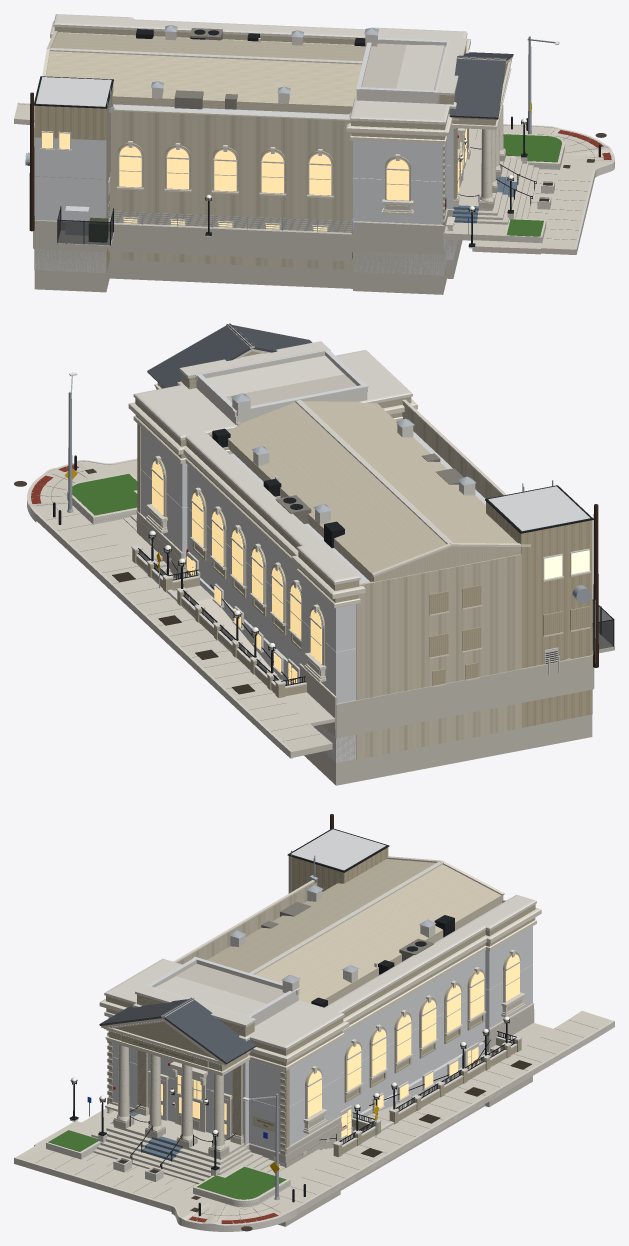
File: building-400.glb
3 renders of one model, top to bottom at view 1: azimuth 30°, elevation 25°; view 2: azimuth 150°, elevation 25°; view 3: azimuth 270°, elevation 25°, orthographic. The views are drawn at different scales.
Parts seen in each view (by area): view 1: node_27, node_102, node_70, node_36, Layer3_UpperLevel, node_18, node_45, node_74, node_0, Layer2_RoadLevel, node_14, node_47 (+27 smaller); view 2: node_102, node_27, node_45, node_31, node_0, node_18, node_74, Layer3_UpperLevel, node_70, Layer2_RoadLevel, node_72, node_32 (+23 smaller); view 3: node_102, node_45, Layer2_RoadLevel, Layer3_UpperLevel, node_18, node_74, node_2, node_47, node_1, node_7, node_72, node_14 (+26 smaller).
Boxes of the visible parts, left/top/right/bottom form: node_27: left=57, top=32, right=352, bottom=269; node_102: left=46, top=32, right=366, bottom=114; node_70: left=34, top=239, right=462, bottom=294; node_36: left=108, top=222, right=351, bottom=261; Layer3_UpperLevel: left=34, top=104, right=458, bottom=181; node_18: left=47, top=31, right=554, bottom=248; node_45: left=14, top=104, right=595, bottom=254; node_74: left=53, top=14, right=469, bottom=124; node_0: left=33, top=43, right=505, bottom=254; Layer2_RoadLevel: left=34, top=147, right=457, bottom=224; node_14: left=42, top=128, right=466, bottom=231; node_47: left=458, top=149, right=539, bottom=224; node_102: left=227, top=401, right=520, bottom=581; node_27: left=356, top=402, right=521, bottom=759; node_45: left=36, top=460, right=334, bottom=757; node_31: left=429, top=501, right=592, bottom=727; node_0: left=137, top=366, right=614, bottom=738; node_18: left=131, top=341, right=590, bottom=688; node_74: left=133, top=350, right=412, bottom=584; Layer3_UpperLevel: left=141, top=427, right=485, bottom=651; node_70: left=304, top=714, right=592, bottom=785; Layer2_RoadLevel: left=141, top=469, right=356, bottom=703; node_72: left=128, top=399, right=417, bottom=608; node_32: left=195, top=349, right=589, bottom=531; node_102: left=207, top=859, right=503, bottom=1004; node_45: left=14, top=1010, right=614, bottom=1213; Layer2_RoadLevel: left=108, top=964, right=532, bottom=1152; Layer3_UpperLevel: left=108, top=926, right=532, bottom=1107; node_18: left=46, top=860, right=522, bottom=1181; node_74: left=104, top=894, right=536, bottom=1050; node_2: left=105, top=856, right=534, bottom=1151; node_47: left=91, top=1114, right=285, bottom=1183; node_1: left=107, top=994, right=521, bottom=1157; node_7: left=101, top=949, right=525, bottom=1139; node_72: left=99, top=908, right=541, bottom=1070; node_14: left=161, top=963, right=519, bottom=1134.
Bounding box in the file's own units: 46.63 × 16.56 × 43.69.
43 materials, 6 textured.
